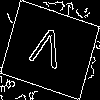V: (25, 25, 66, 79)
